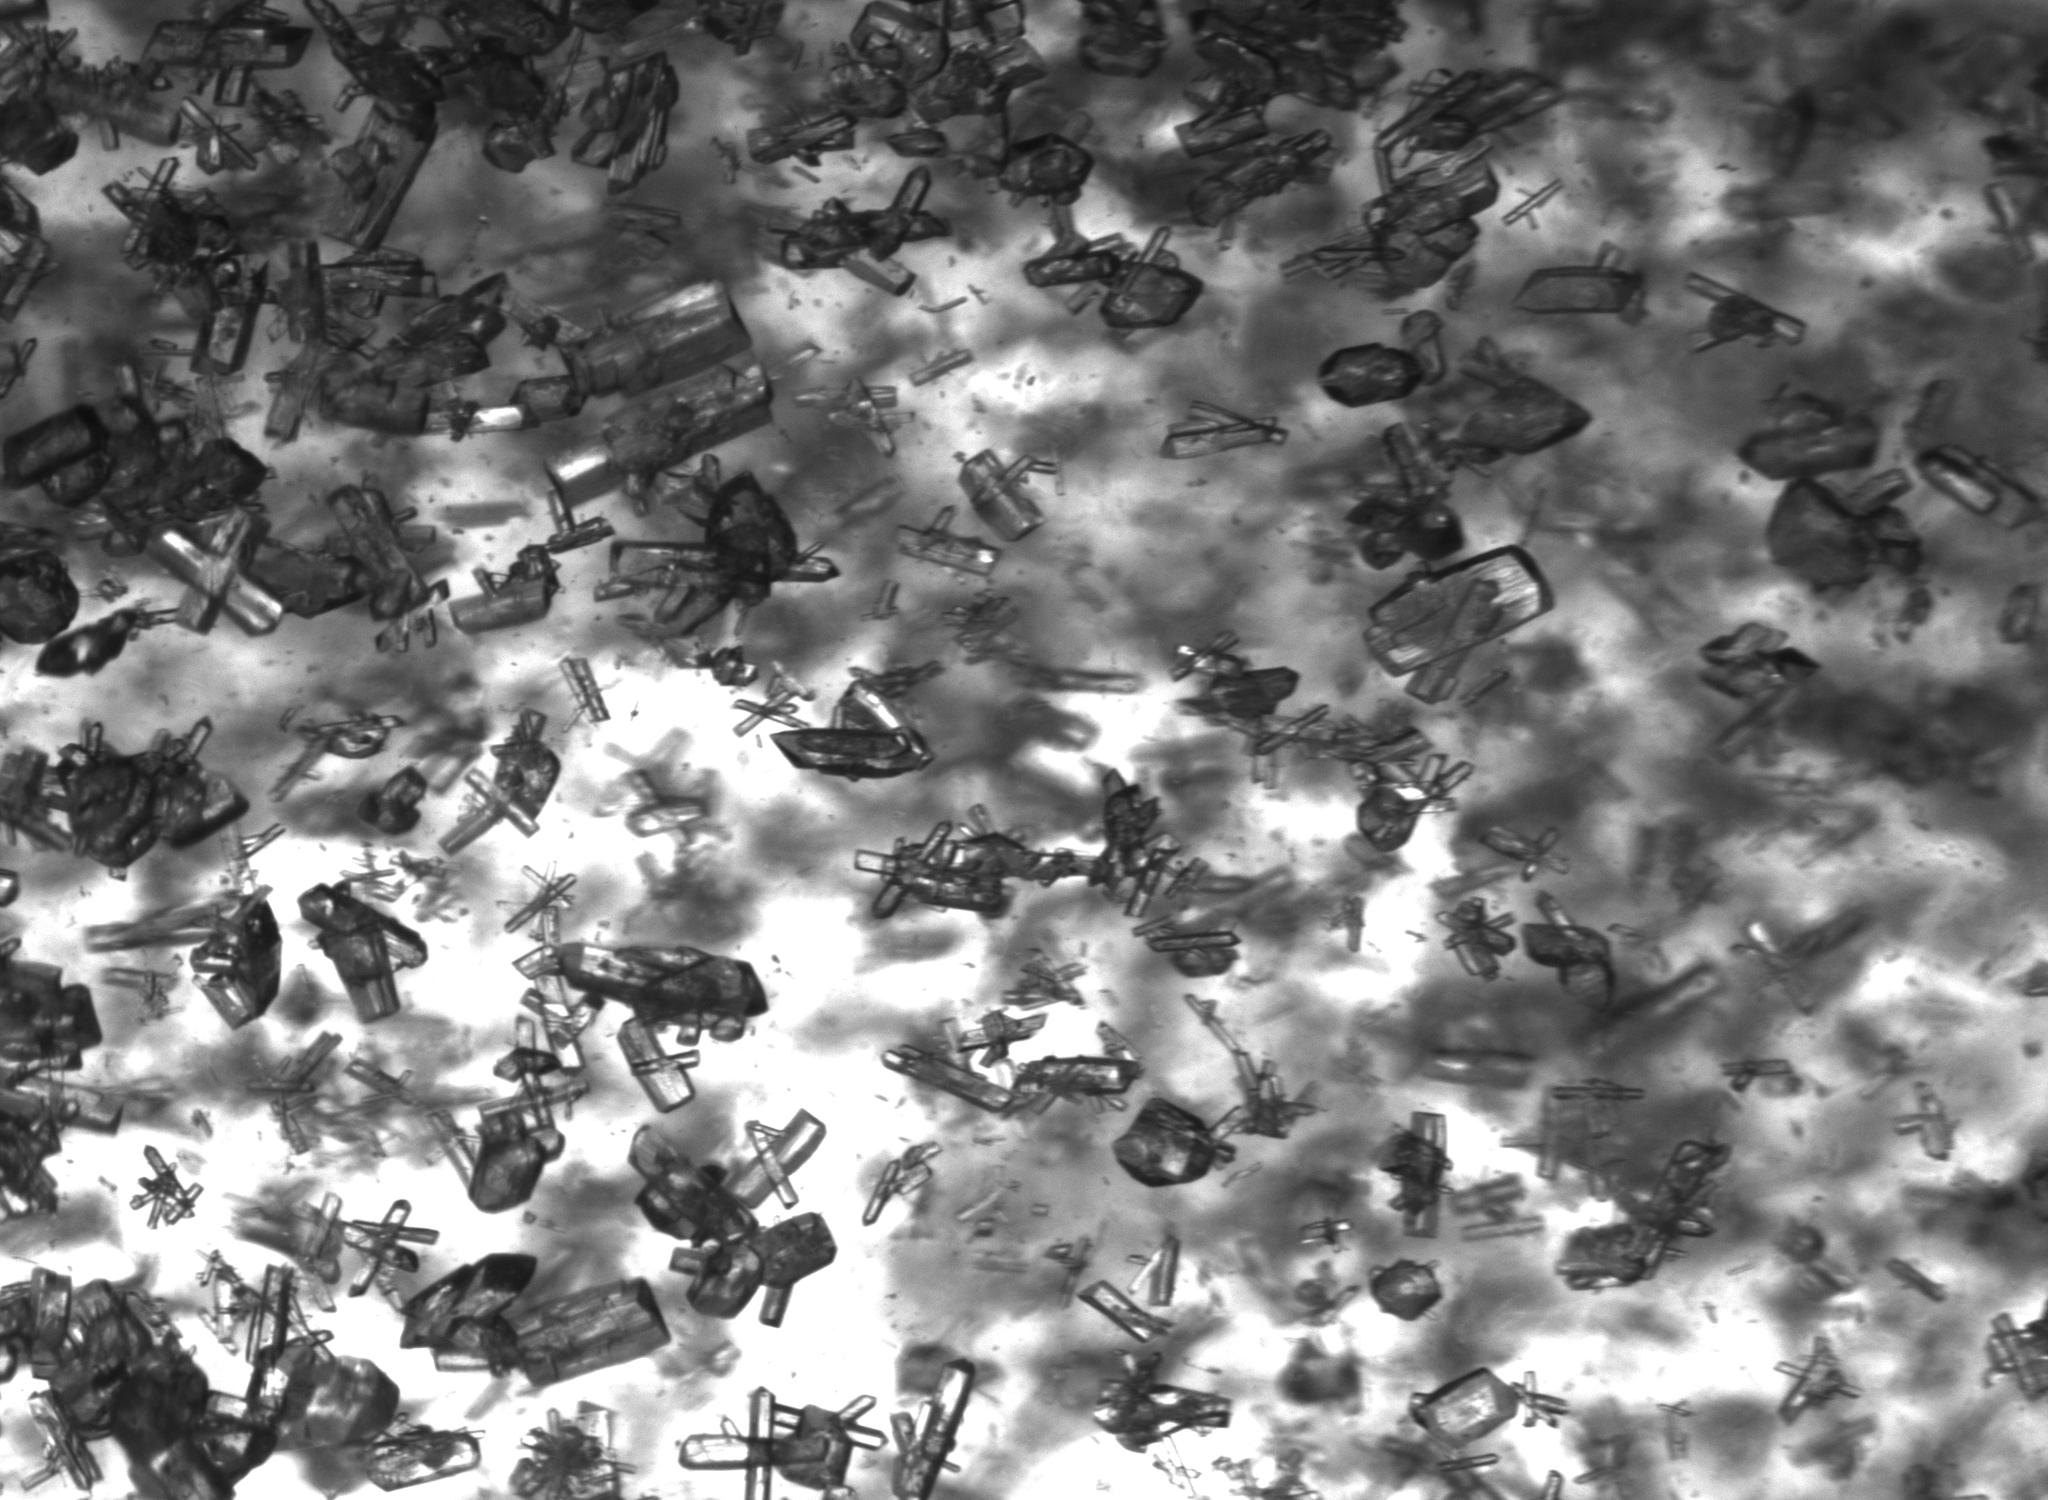crystal: (0, 1268, 275, 1500), (1282, 68, 1557, 299), (595, 453, 838, 641), (0, 394, 267, 550), (105, 159, 269, 377), (307, 0, 445, 251), (22, 721, 245, 875), (307, 277, 509, 434), (1364, 546, 1553, 703), (830, 0, 1043, 127), (1175, 13, 1363, 156), (0, 22, 175, 173), (854, 805, 1088, 918), (1555, 1139, 1728, 1290), (1083, 770, 1253, 916), (522, 940, 766, 1040), (681, 1387, 887, 1500), (421, 0, 572, 154), (1417, 342, 1592, 472), (773, 165, 949, 293), (603, 364, 773, 493), (566, 283, 752, 398), (771, 662, 941, 781), (1765, 468, 1922, 593), (1185, 993, 1318, 1139), (499, 1277, 673, 1389), (669, 1212, 836, 1327), (299, 881, 426, 1021), (146, 507, 285, 635), (1329, 729, 1471, 853), (440, 709, 561, 854), (145, 0, 313, 103), (401, 1253, 537, 1376), (447, 1086, 564, 1214), (571, 52, 679, 188), (630, 1128, 757, 1242), (1186, 129, 1332, 227), (326, 484, 429, 620), (278, 1338, 399, 1451), (1094, 1354, 1231, 1452), (188, 888, 281, 1029), (1738, 391, 1878, 480), (272, 705, 405, 797), (0, 953, 102, 1074), (890, 1358, 975, 1500), (1520, 891, 1617, 1013), (509, 1403, 631, 1500), (1170, 635, 1299, 725), (200, 1253, 302, 1365), (1914, 445, 2048, 530), (1113, 1099, 1232, 1188), (35, 606, 180, 678), (1700, 622, 1819, 706), (1685, 270, 1806, 353), (445, 547, 558, 635), (728, 1110, 827, 1209), (881, 1043, 1014, 1113), (345, 1199, 439, 1296), (1379, 1112, 1452, 1236), (1024, 200, 1126, 288), (1344, 496, 1464, 569), (959, 449, 1054, 541), (1412, 1368, 1522, 1448), (617, 1010, 700, 1112), (358, 1425, 480, 1492), (795, 379, 900, 455), (1159, 399, 1286, 460), (1099, 261, 1204, 334), (0, 550, 80, 644), (898, 506, 1000, 579), (0, 173, 49, 320), (1776, 1336, 1859, 1422), (1318, 342, 1426, 407), (1514, 262, 1644, 315), (997, 135, 1092, 205), (862, 1142, 940, 1226), (1437, 897, 1515, 980), (1134, 918, 1240, 978), (747, 108, 855, 167), (130, 1145, 204, 1228), (178, 99, 256, 175), (1076, 1280, 1170, 1343), (948, 1008, 1046, 1067), (545, 442, 623, 514), (1986, 1311, 2048, 1400), (1013, 1055, 1140, 1098), (504, 869, 576, 943), (1002, 950, 1086, 1008), (358, 765, 428, 835), (733, 671, 808, 736), (495, 1015, 563, 1083), (1369, 1260, 1442, 1320), (1132, 1236, 1180, 1308), (1509, 1371, 1568, 1428), (560, 657, 609, 724), (908, 348, 975, 387), (886, 126, 949, 157)
